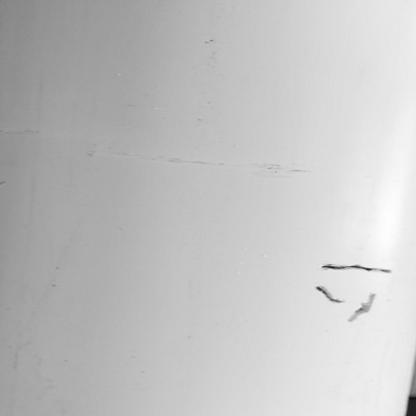fengxi: (323, 262, 393, 275), (350, 293, 374, 325), (311, 286, 343, 306)
